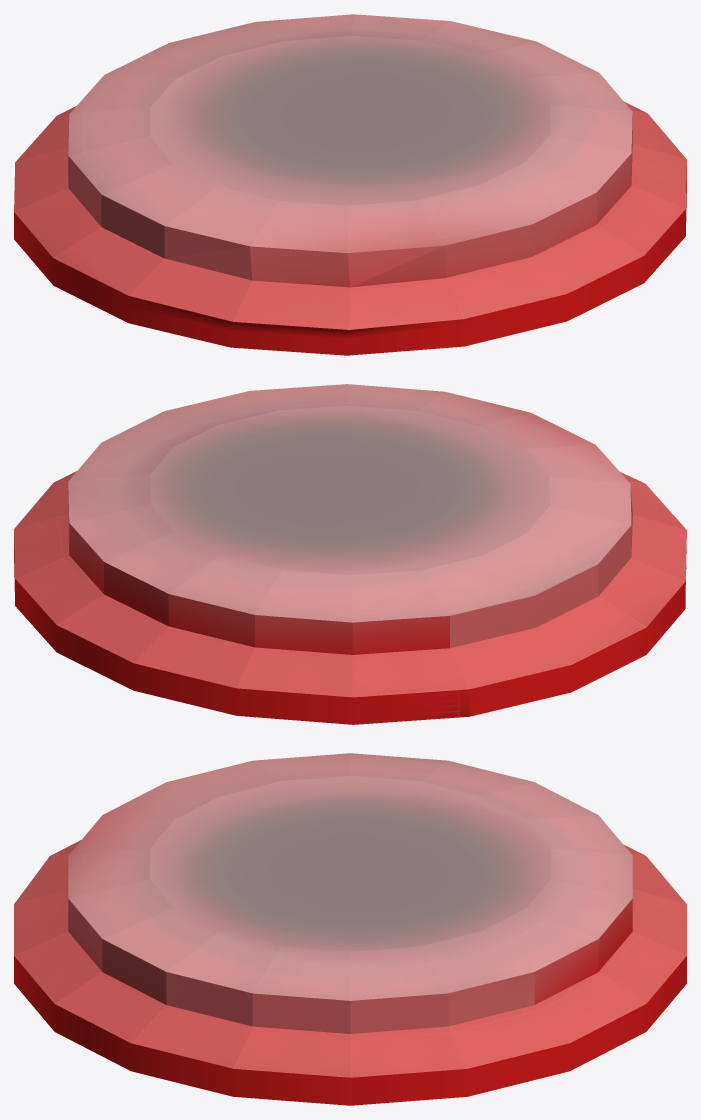
The model's file is jumpad1.fbx.
3 views of the same model, one above another, from view 1: azimuth 30°, elevation 25°; view 2: azimuth 150°, elevation 25°; view 3: azimuth 270°, elevation 25° (orthographic). The views are drawn at different scales.
Parts seen in each view (by area): view 1: Cylinder001; view 2: Cylinder001; view 3: Cylinder001.
Boxes of the visible parts, <box> form: Cylinder001: <box>14,14,686,355</box>; Cylinder001: <box>14,384,686,724</box>; Cylinder001: <box>14,753,686,1105</box>.
Bounding box in the file's own units: 9.53 × 1.42 × 9.17.
